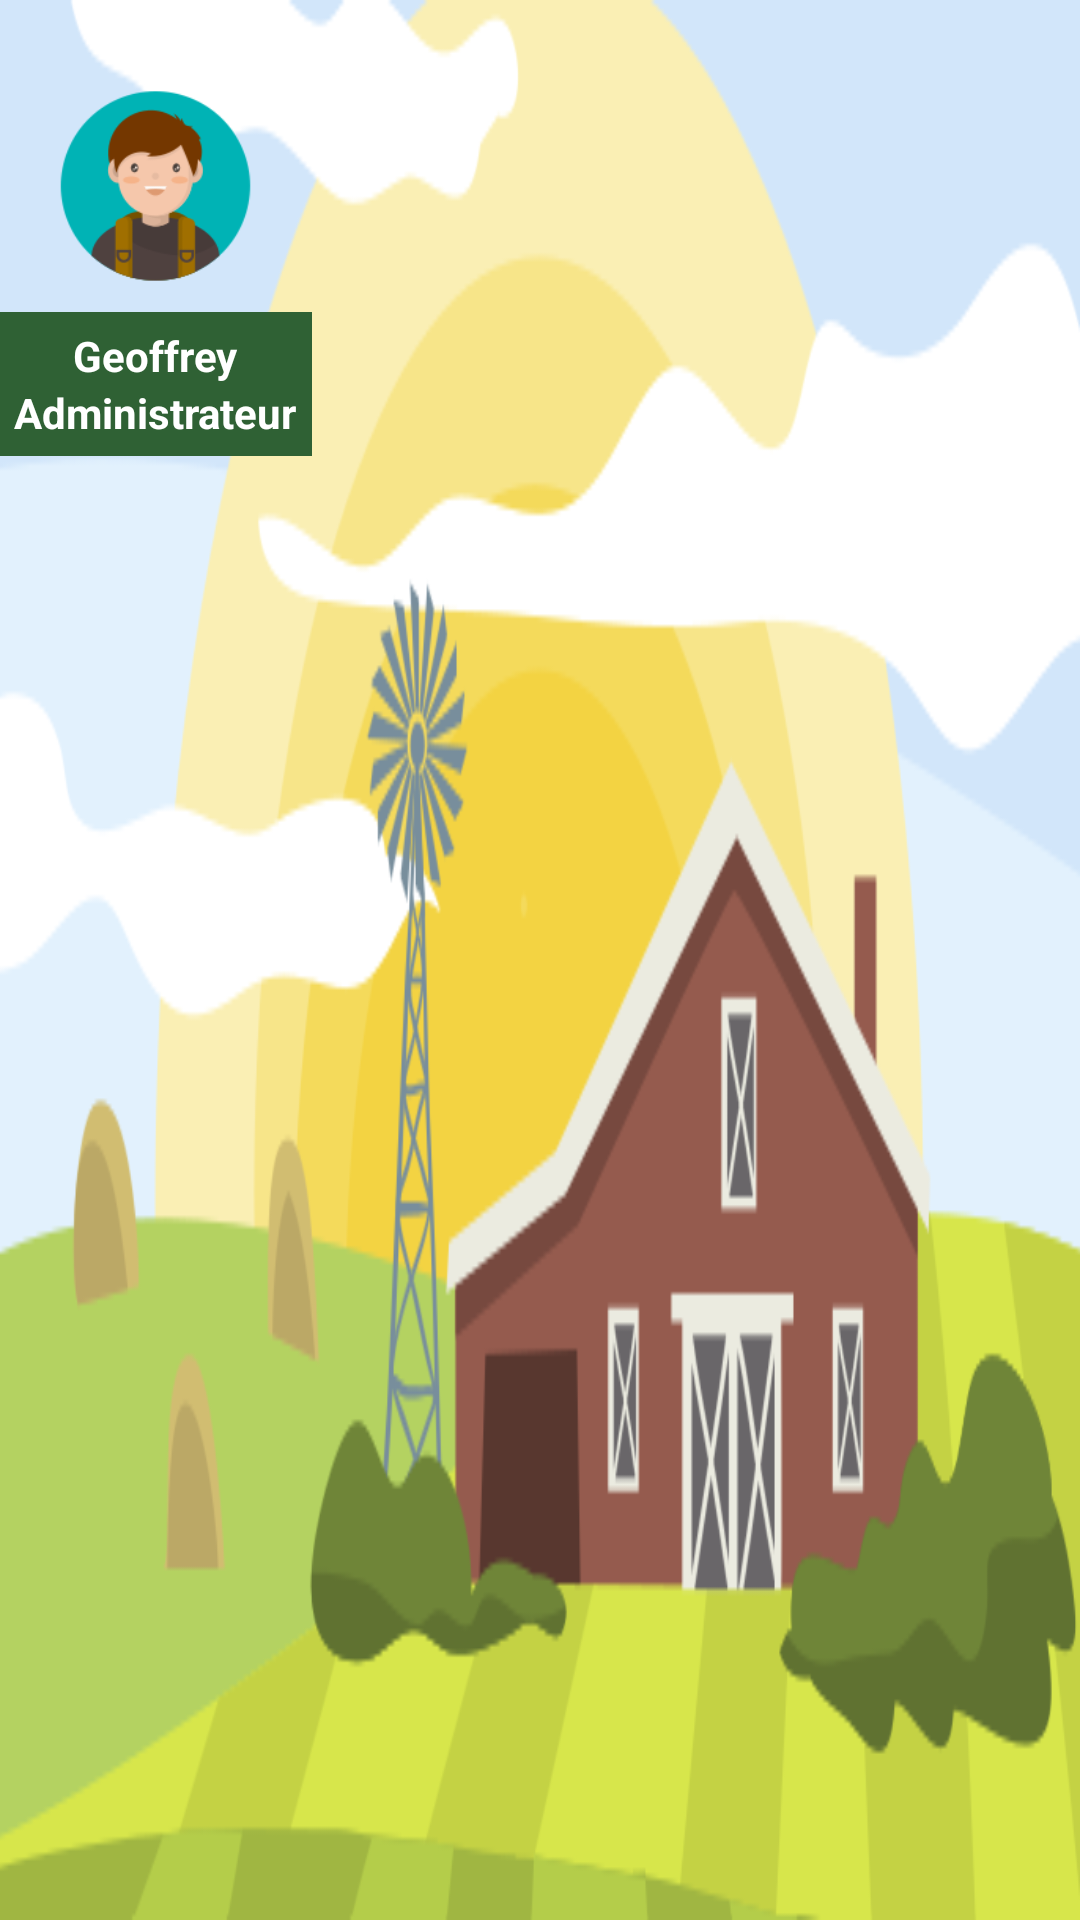

Icons on this 1080*1920 Android screen, each with the point to tap as point (x, y):
user: point (165, 185)
